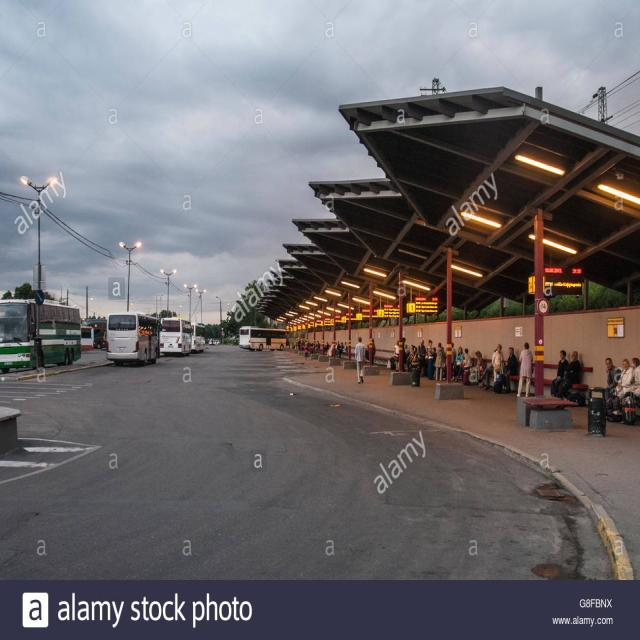body: (558, 349, 584, 403), (614, 358, 634, 411), (517, 340, 534, 398), (550, 349, 570, 398), (613, 358, 634, 401), (604, 357, 622, 402), (503, 345, 519, 394), (353, 336, 367, 386), (454, 347, 474, 379), (450, 345, 466, 382), (491, 344, 504, 384), (434, 342, 446, 384), (427, 338, 435, 381), (417, 337, 425, 377), (405, 342, 414, 372), (409, 346, 418, 372), (394, 339, 400, 373), (451, 342, 456, 381), (302, 338, 316, 351), (338, 341, 348, 358), (474, 351, 482, 369), (402, 337, 406, 372), (371, 338, 376, 365), (321, 339, 329, 355), (336, 341, 344, 357), (327, 338, 334, 355), (302, 343, 308, 359), (334, 340, 340, 356), (315, 338, 321, 353), (404, 343, 410, 356), (297, 339, 301, 351), (425, 347, 428, 359), (432, 344, 437, 350), (210, 338, 213, 346), (215, 339, 218, 345)
